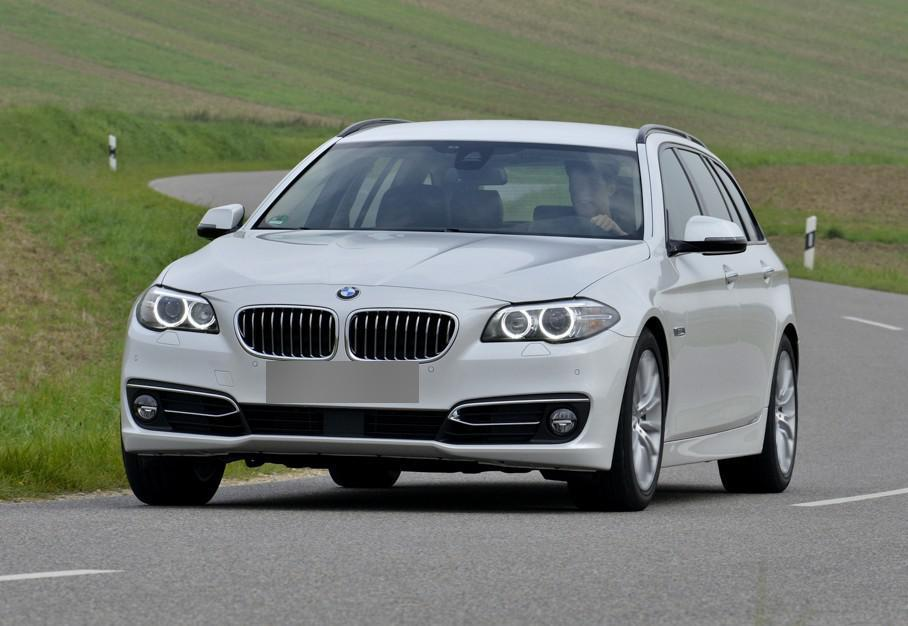Wagon: (119, 116, 802, 513)
